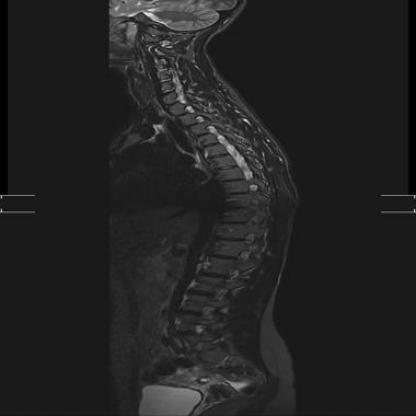Disc Bulgerotation: (220, 203, 251, 214), (219, 175, 246, 186), (220, 190, 249, 200), (157, 77, 174, 88)
